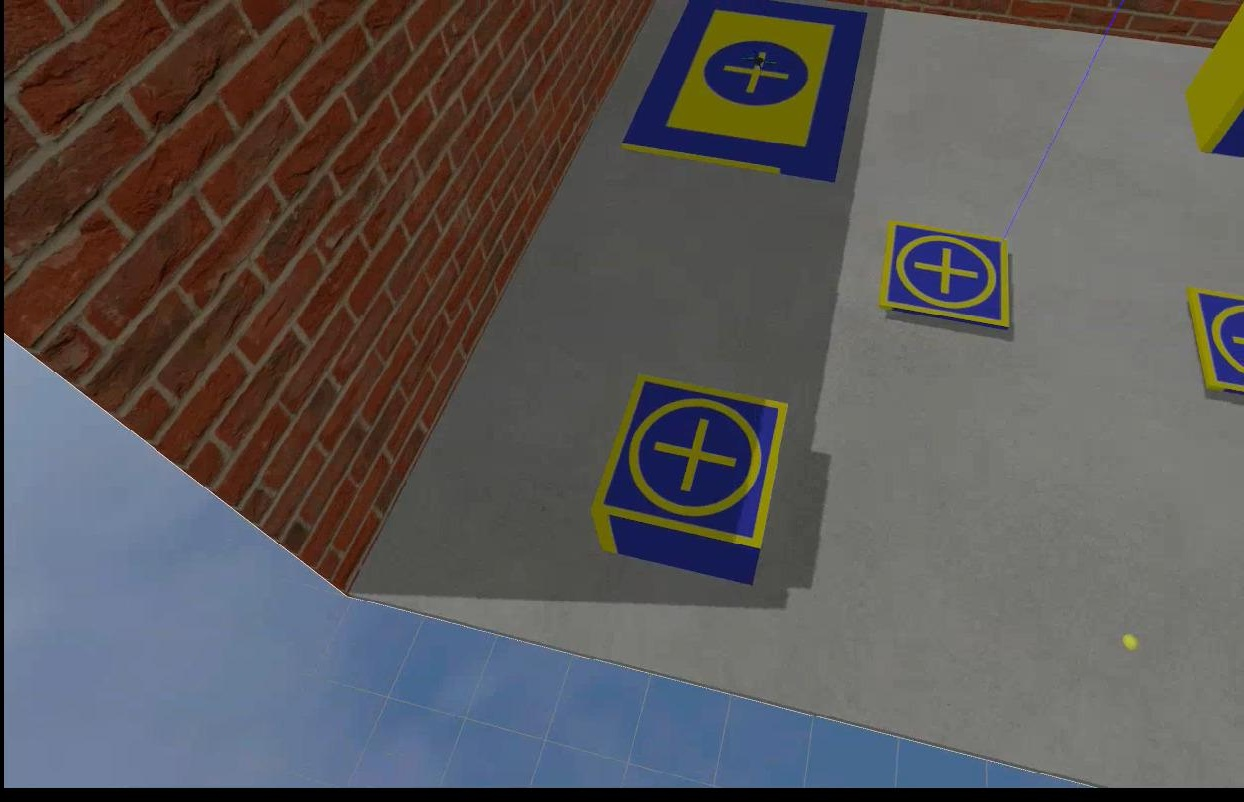large_base: (618, 2, 868, 183)
small_base: (586, 376, 787, 552), (877, 220, 1013, 329), (1184, 286, 1242, 398)
